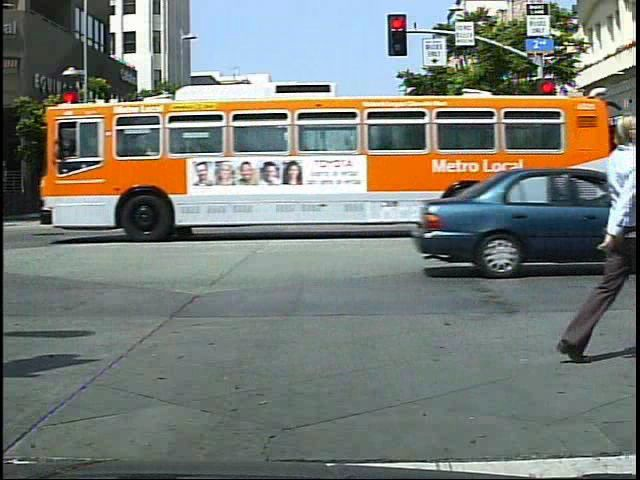person: (294, 165, 326, 229), (197, 167, 226, 233), (332, 166, 361, 230), (548, 160, 571, 211)
